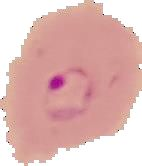parasitized: (41, 62, 104, 125)
